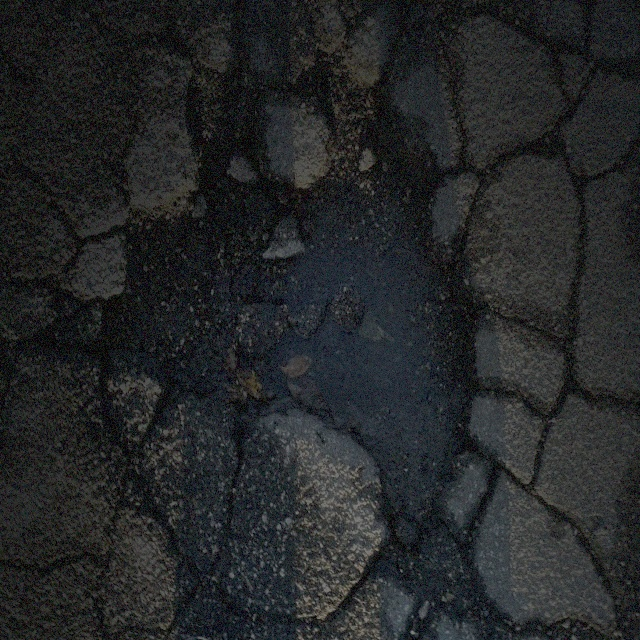pothole: (111, 114, 483, 530)
